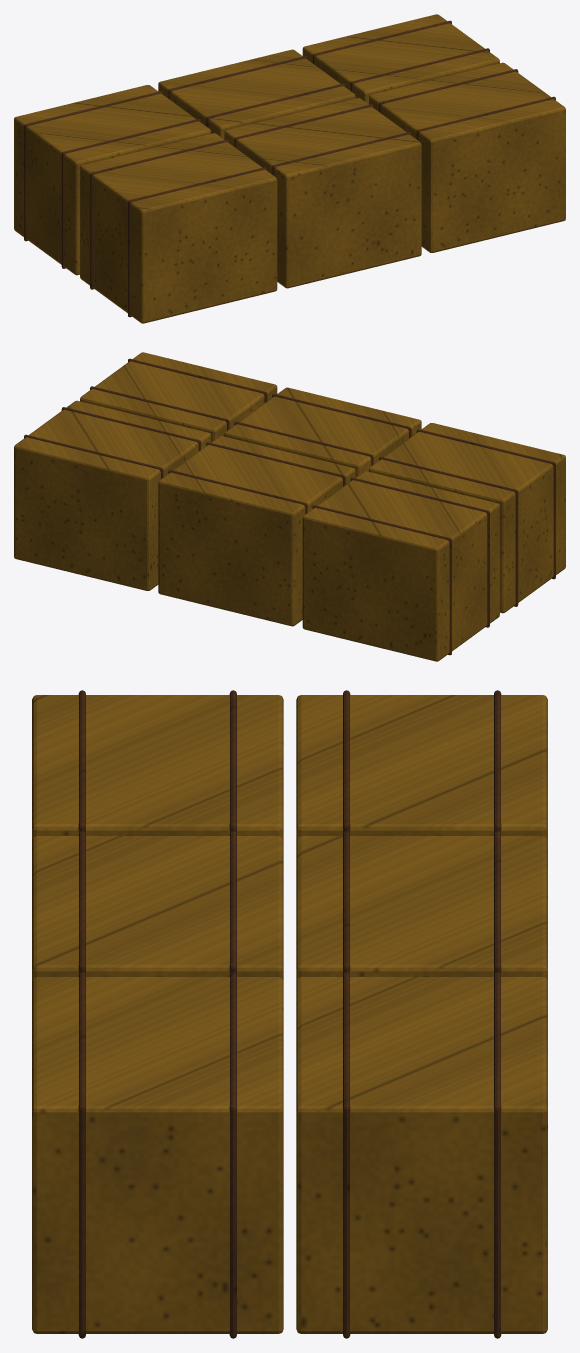
Rendered from PROP-86E1D1FF95BA_lod0.glb.
3 renders of one model, top to bottom at view 1: azimuth 30°, elevation 25°; view 2: azimuth 150°, elevation 25°; view 3: azimuth 270°, elevation 25°, orthographic. The views are drawn at different scales.
Visible parts, largest first — view 1: hay_bale, bale_twine; view 2: hay_bale, bale_twine; view 3: hay_bale, bale_twine.
Boxes of the visible parts, x1,y1,x2,y2 form: hay_bale: (14,14,565,323); bale_twine: (24,20,555,317); hay_bale: (14,352,565,661); bale_twine: (24,358,555,655); hay_bale: (32,695,547,1333); bale_twine: (78,690,501,1338).
Size of the model in its own units: 1.57 by 0.41 by 0.82.
Materials: 2 (2 with a texture image).
